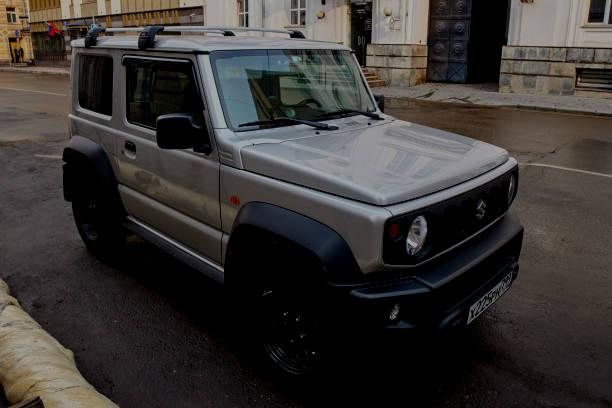suzuki: (469, 200, 496, 225)
